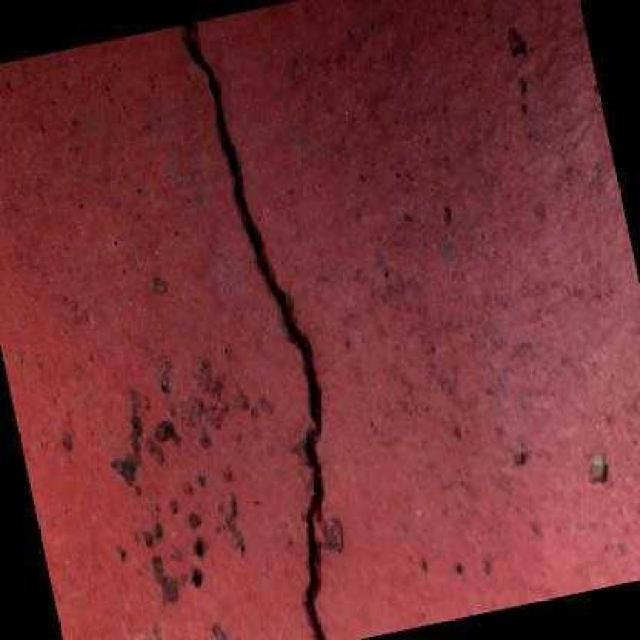D00: (177, 21, 343, 640)
